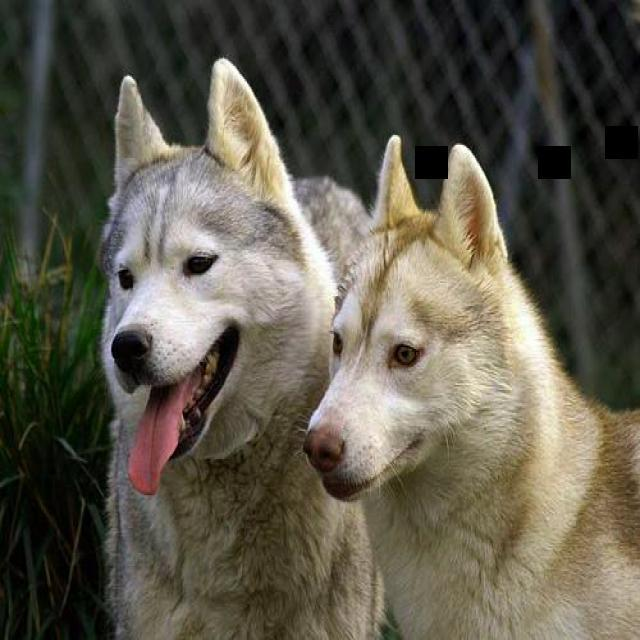adult_dog: (302, 131, 640, 640), (94, 51, 386, 640)
